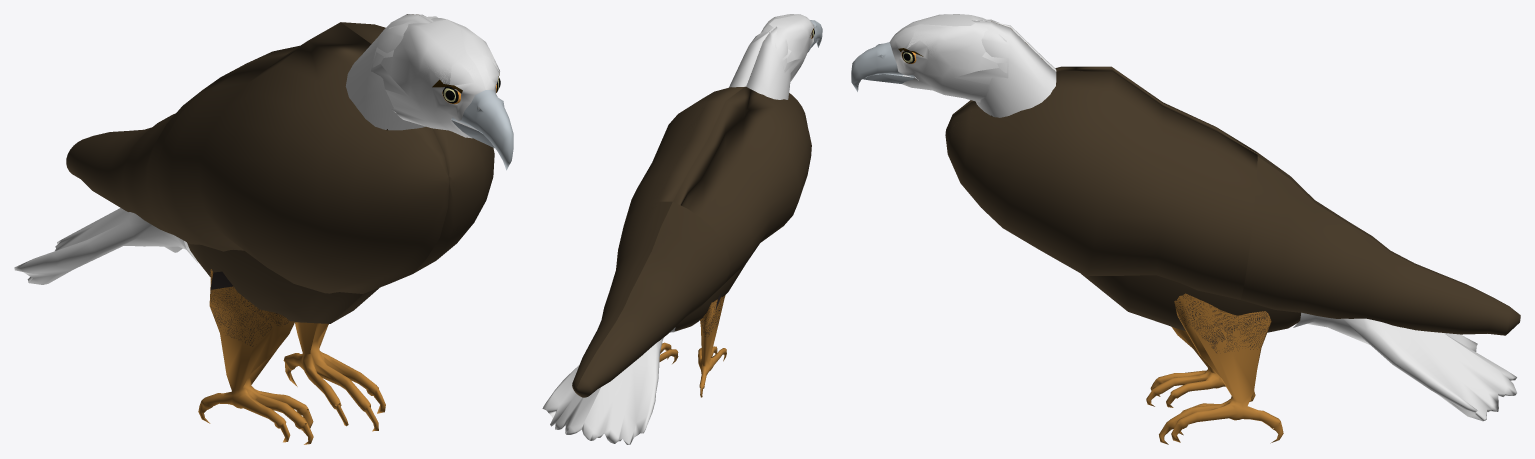
The model's file is eagle 1.fbx.
The picture shows the model from 3 angles, left to right: view 1: azimuth 30°, elevation 25°; view 2: azimuth 150°, elevation 25°; view 3: azimuth 270°, elevation 25°; orthographic projection. The views are drawn at different scales.
Visible parts, largest first — view 1: Left wing, Body, Right wing; view 2: Left wing, Body, Right wing; view 3: Right wing, Body, Left wing.
Part boxes in pixels (box(x1,y1,x2,y2)): Left wing: box(66, 22, 449, 293); Body: box(14, 14, 513, 444); Right wing: box(341, 22, 494, 273); Left wing: box(577, 87, 811, 397); Body: box(542, 14, 822, 444); Right wing: box(572, 86, 745, 396); Right wing: box(945, 71, 1520, 335); Body: box(851, 14, 1516, 444); Left wing: box(945, 66, 1518, 313).
Bounding box in the file's own units: 150 × 304 × 460.
